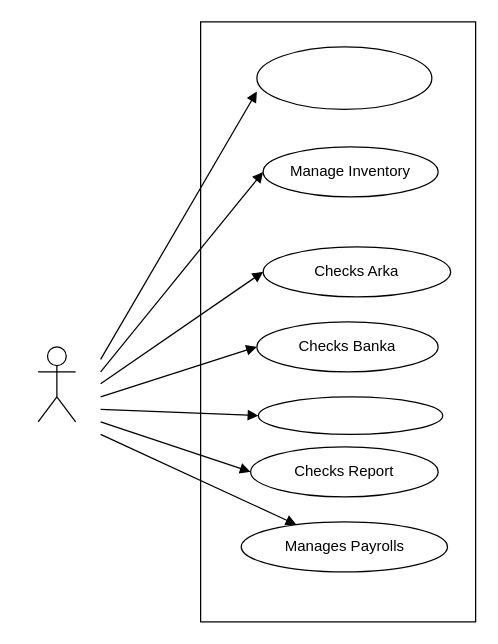
This 498x644 diagram has some shape labels left out. Here are the shapes that lost their labels. From the top down, the centre of each, then its label:
(x=344, y=77): log in
(x=56, y=384): Economist
(x=350, y=415): Checks Tranfers
